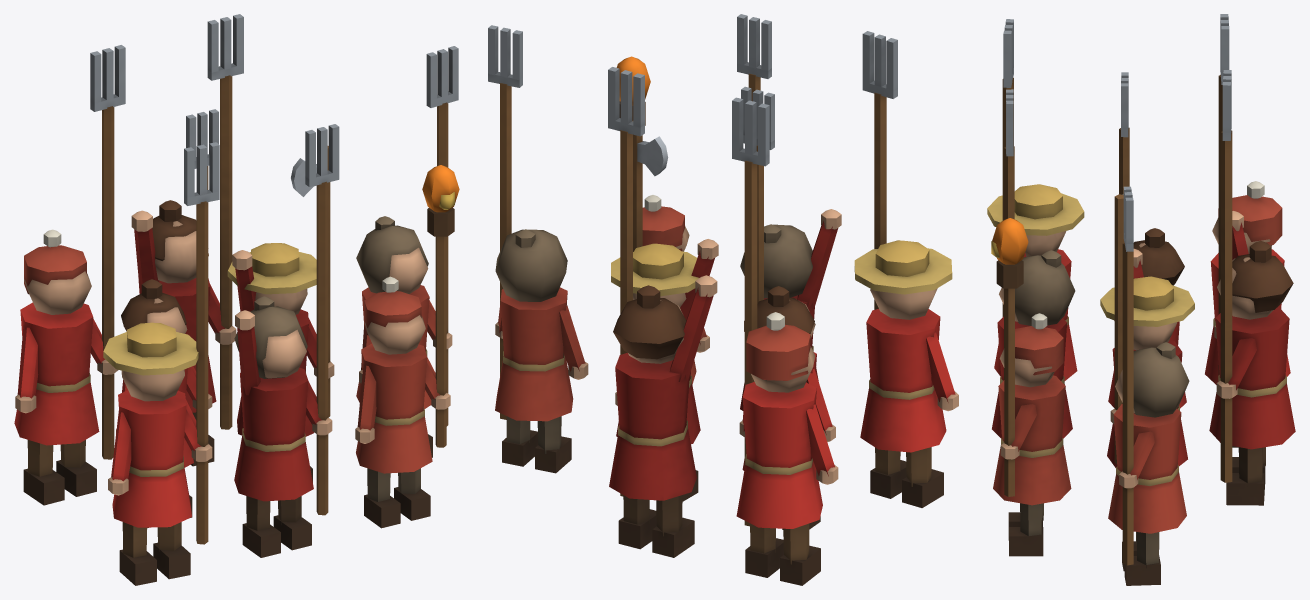
File: squad_dl1_red.glb
3 renders of one model, left to right at view 1: azimuth 30°, elevation 25°; view 2: azimuth 150°, elevation 25°; view 3: azimuth 270°, elevation 25°, orthographic. The views are drawn at different scales.
Visible parts, largest first — view 1: squad_dl1_red; view 2: squad_dl1_red; view 3: squad_dl1_red.
Part boxes in pixels (x1=…): squad_dl1_red: x1=14, y1=14, x2=459, y2=585; squad_dl1_red: x1=488, y1=14, x2=958, y2=585; squad_dl1_red: x1=987, y1=14, x2=1295, y2=585.
Bounding box in the file's own units: 0.6647 × 0.6989 × 0.451.
1 material, 1 textured.
